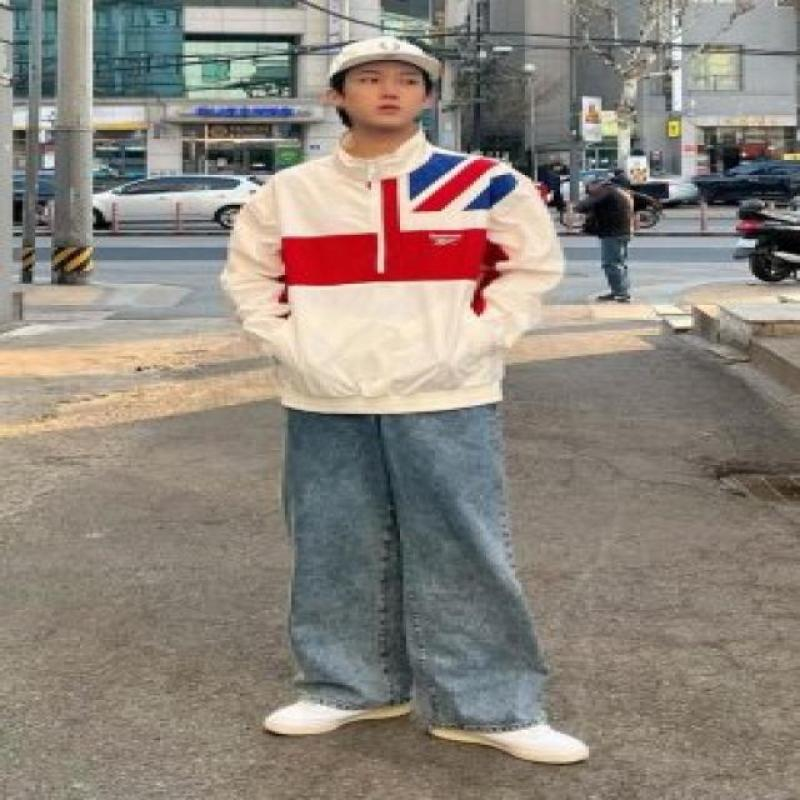jacket: (221, 122, 566, 418)
trousers: (278, 399, 555, 736)
